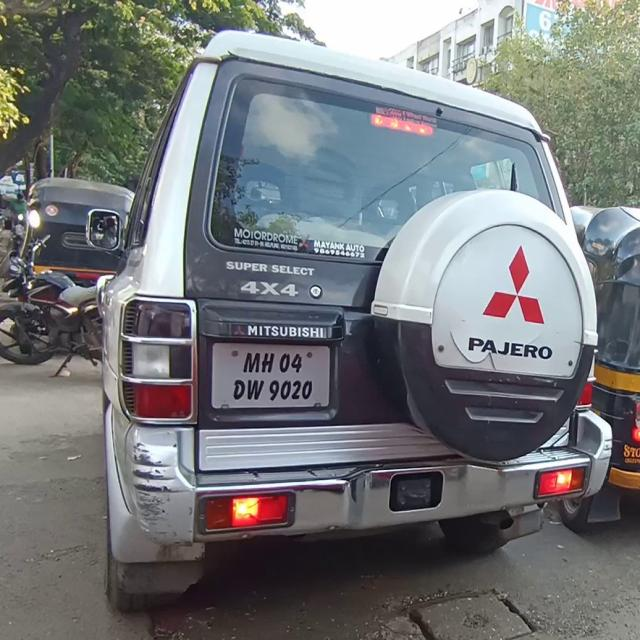Plate: (210, 339, 333, 411)
